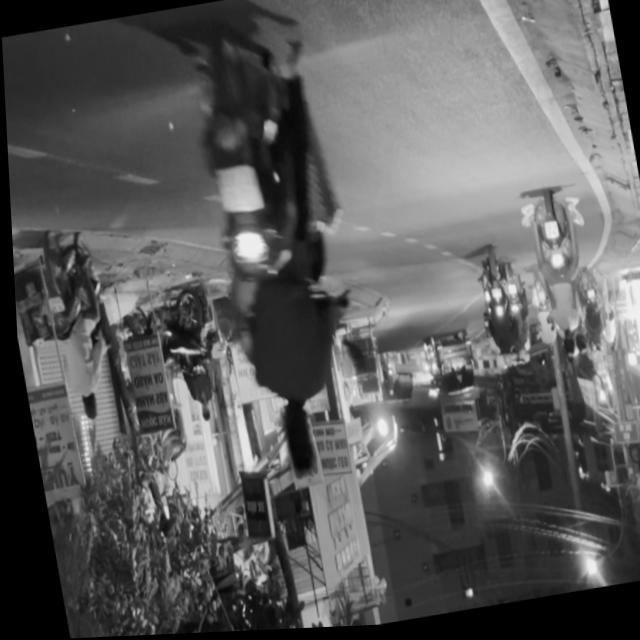licenseplate: (171, 0, 382, 496), (25, 208, 127, 426)
motorcyclist: (270, 405, 316, 486), (73, 389, 95, 420)
nohelmet: (211, 167, 260, 219)
